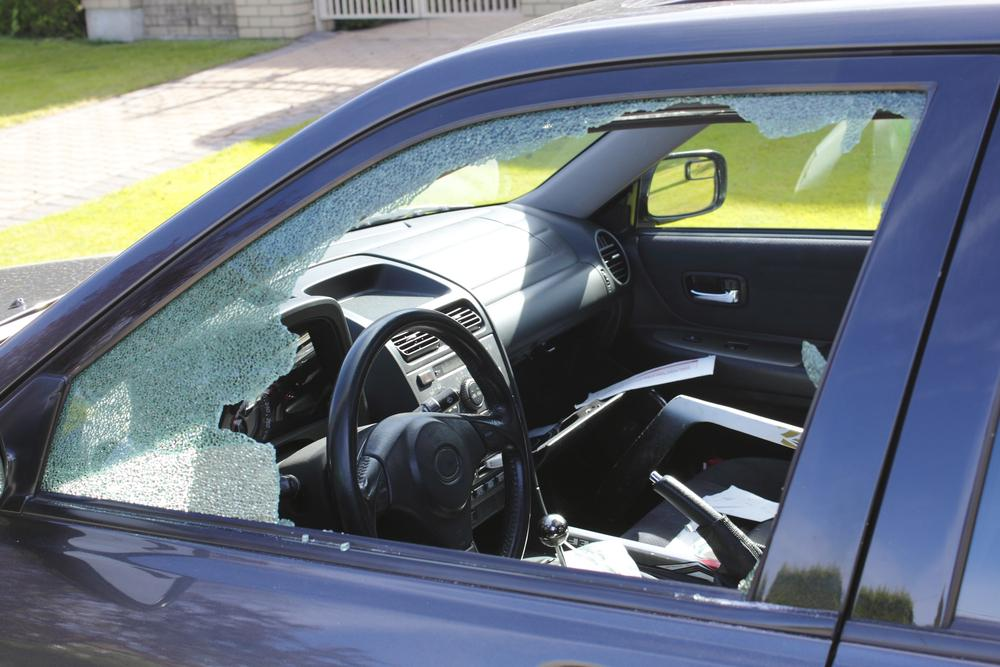glass shatter: (41, 89, 932, 588)
